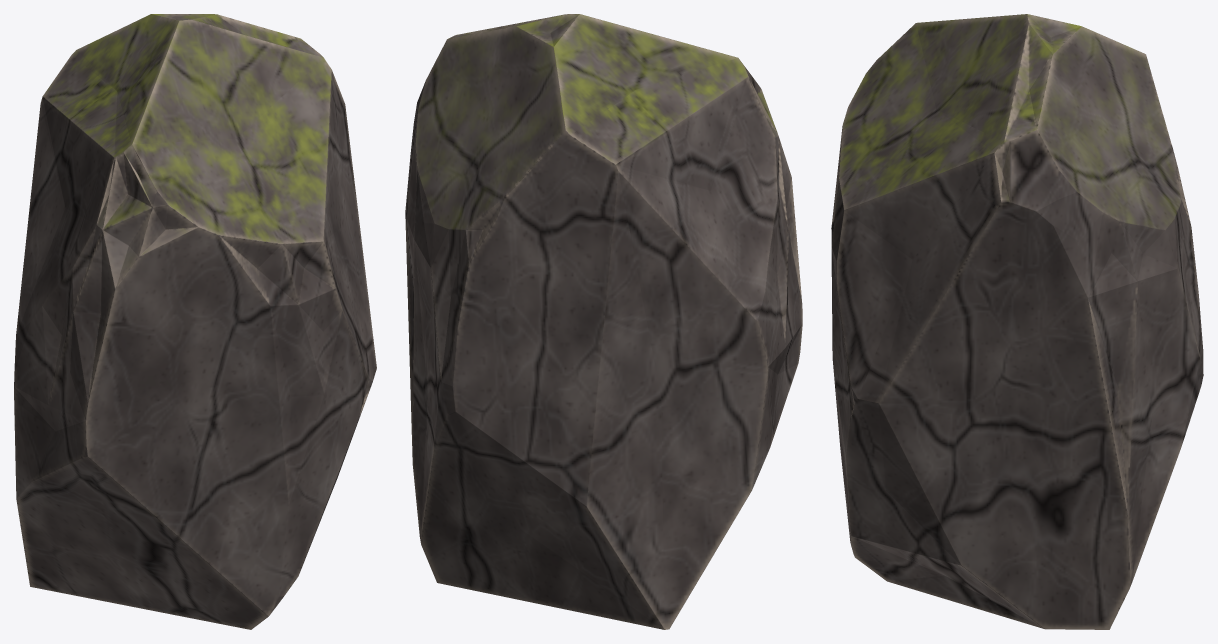
File: Stone_Tall_B.fbx
3 views of the same model, side by side, from view 1: azimuth 30°, elevation 25°; view 2: azimuth 150°, elevation 25°; view 3: azimuth 270°, elevation 25° (orthographic).
Visible parts, largest first — view 1: Stone_Tall_B; view 2: Stone_Tall_B; view 3: Stone_Tall_B.
Part boxes in pixels (x1,y1,x2,y2): Stone_Tall_B: (14,14,376,629); Stone_Tall_B: (405,14,802,629); Stone_Tall_B: (831,14,1203,629).
Bounding box in the file's own units: 0.3629 × 0.5884 × 0.3505.
